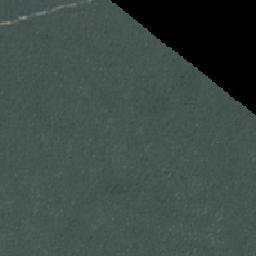debris: (1, 16, 28, 25), (29, 9, 52, 17), (54, 3, 80, 9)
